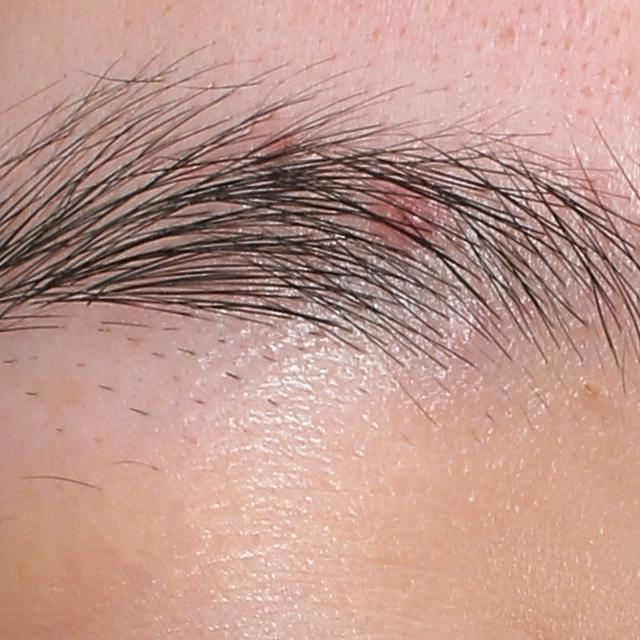atrophic_scar: (488, 19, 523, 49)
papule: (380, 198, 432, 241)
